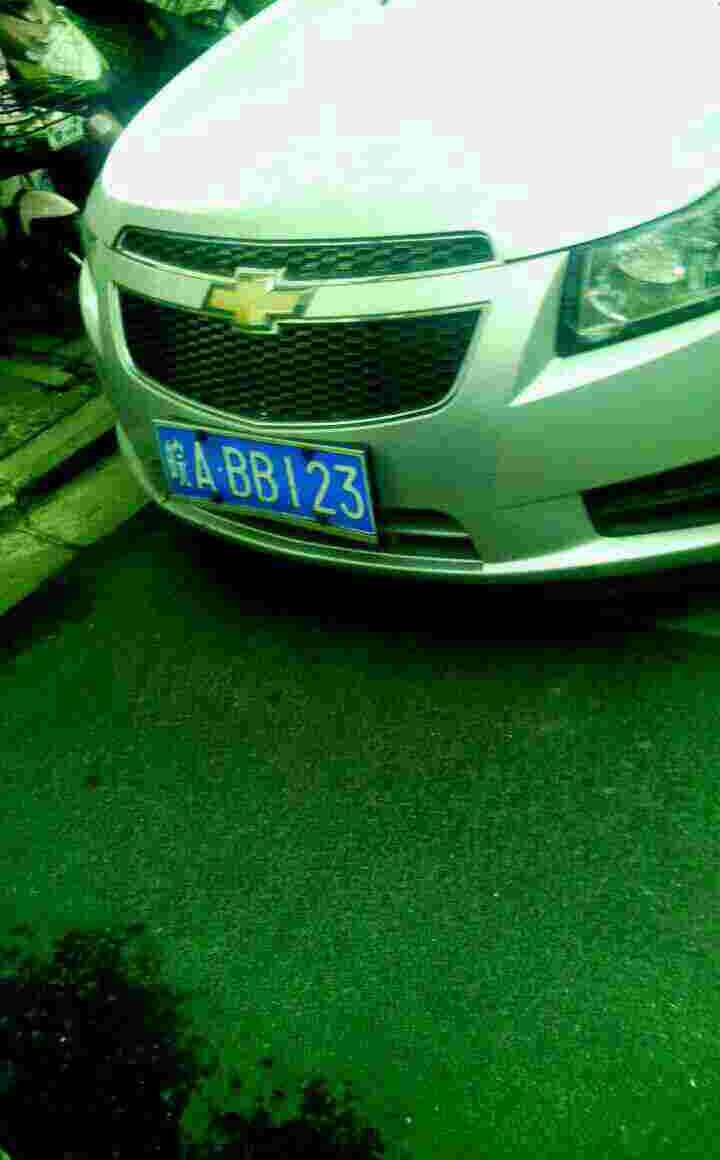license_plate: (147, 427, 382, 534)
